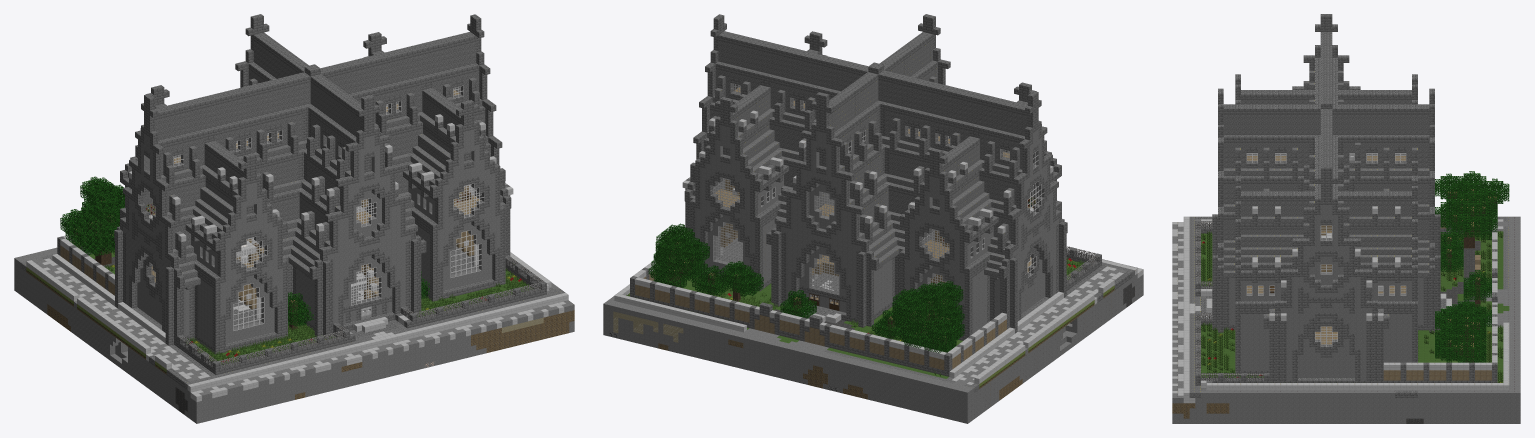
Rendered from house.fbx.
3 views of the same model, side by side, from view 1: azimuth 30°, elevation 25°; view 2: azimuth 150°, elevation 25°; view 3: azimuth 270°, elevation 25° (orthographic). The views are drawn at different scales.
Parts seen in each view (by area): view 1: Stone_Brick, Stone, Stone_Brick_Stairs, Cobblestone_Stairs, Cobblestone, Stone_Slab, Leaves, Double_Slab, Glass_Pane, Grass, Dirt, Iron_Bars (+3 smaller); view 2: Stone_Brick, Stone, Stone_Brick_Stairs, Cobblestone_Stairs, Leaves, Cobblestone, Stone_Slab, Wooden_Plank, Glass_Pane, Grass, Double_Slab, Dirt (+3 smaller); view 3: Stone, Stone_Brick, Stone_Brick_Stairs, Cobblestone_Stairs, Cobblestone, Leaves, Stone_Slab, Grass, Tall_Grass, Wooden_Plank, Double_Slab, Iron_Bars (+4 smaller).
Boxes of the visible parts, x1,y1,x2,y2 form: Stone_Brick: [57, 26, 546, 387]; Stone: [14, 129, 574, 423]; Stone_Brick_Stairs: [114, 14, 511, 329]; Cobblestone_Stairs: [155, 40, 505, 287]; Cobblestone: [20, 69, 564, 389]; Stone_Slab: [26, 114, 568, 392]; Leaves: [60, 176, 429, 326]; Double_Slab: [42, 184, 565, 402]; Glass_Pane: [138, 85, 484, 330]; Grass: [26, 250, 530, 374]; Dirt: [47, 304, 574, 399]; Iron_Bars: [180, 257, 543, 367]; Stone_Brick: [630, 26, 1131, 376]; Stone: [603, 125, 1143, 423]; Stone_Brick_Stairs: [684, 14, 1067, 335]; Cobblestone_Stairs: [689, 39, 1027, 277]; Leaves: [648, 223, 964, 353]; Cobblestone: [704, 67, 1134, 392]; Stone_Slab: [614, 110, 1137, 383]; Wooden_Plank: [635, 91, 1033, 370]; Glass_Pane: [710, 83, 1044, 295]; Grass: [628, 259, 1114, 388]; Double_Slab: [716, 178, 1143, 384]; Dirt: [658, 339, 1022, 400]; Stone: [1172, 204, 1520, 423]; Stone_Brick: [1195, 26, 1497, 397]; Stone_Brick_Stairs: [1212, 14, 1497, 323]; Cobblestone_Stairs: [1223, 70, 1429, 315]; Cobblestone: [1189, 142, 1509, 397]; Leaves: [1435, 171, 1509, 362]; Stone_Slab: [1183, 206, 1509, 397]; Grass: [1201, 231, 1509, 382]; Tall_Grass: [1201, 231, 1503, 382]; Wooden_Plank: [1247, 156, 1491, 380]; Double_Slab: [1172, 219, 1503, 403]; Iron_Bars: [1195, 221, 1263, 380].
Bounding box in the file's own units: 7300 × 4800 × 6100.
